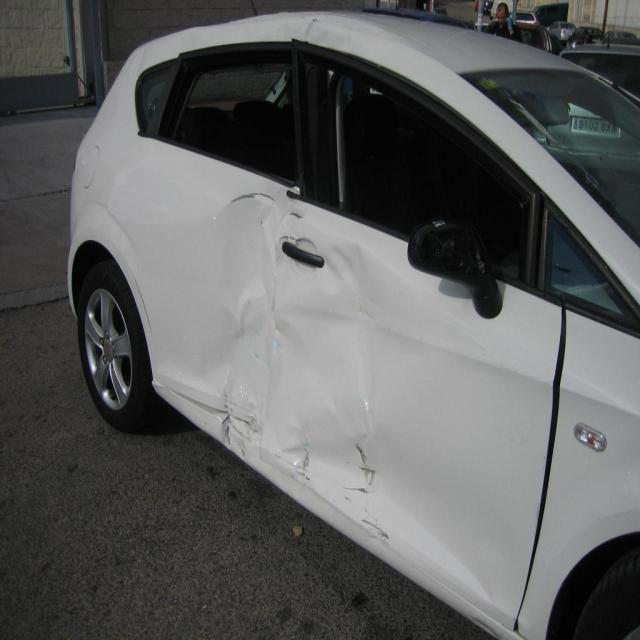Damage: (170, 170, 407, 551)
